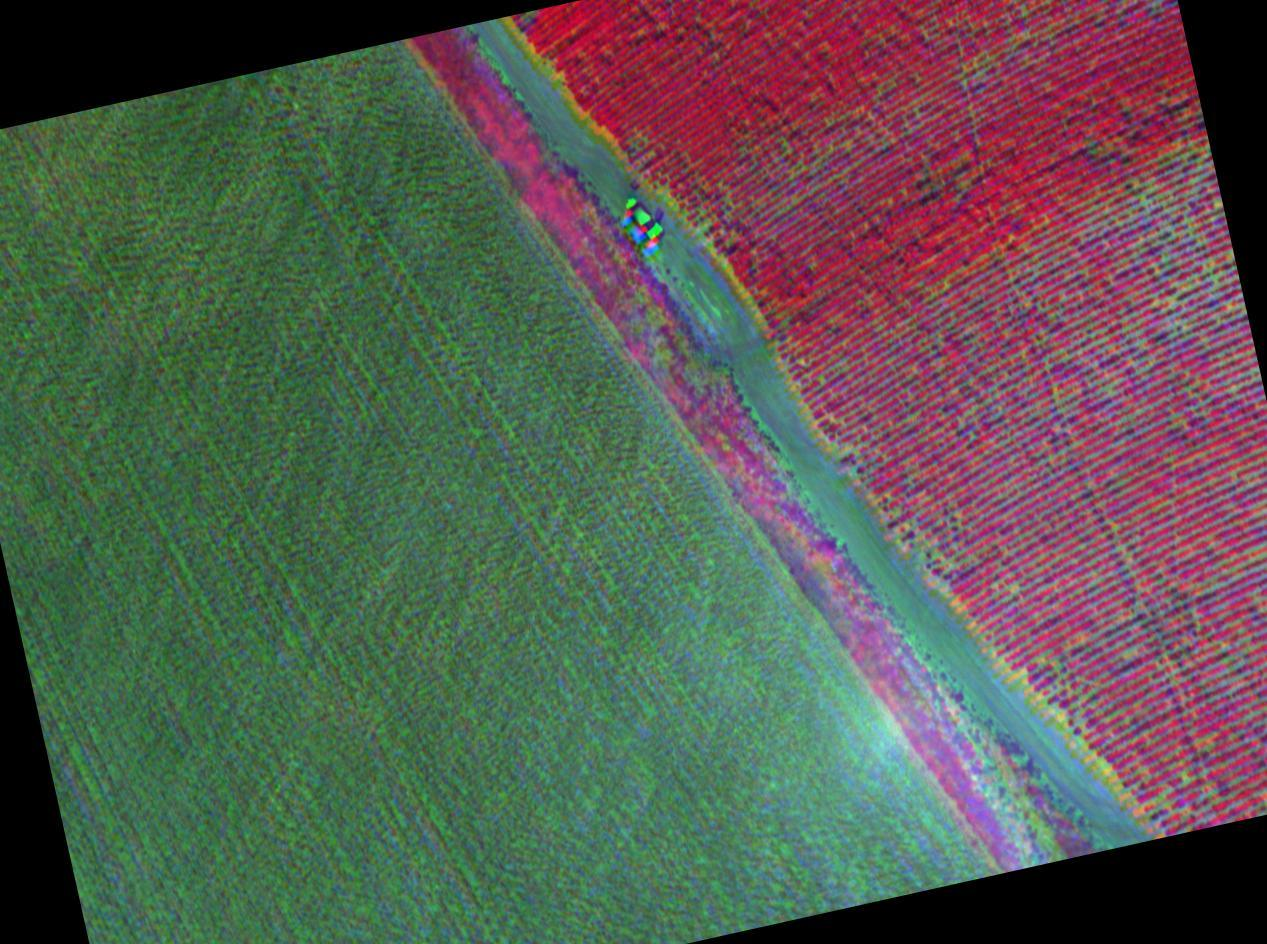dc: (1146, 258, 1254, 369), (1011, 305, 1116, 397), (1013, 638, 1109, 730), (1136, 163, 1212, 256), (878, 495, 962, 573)
